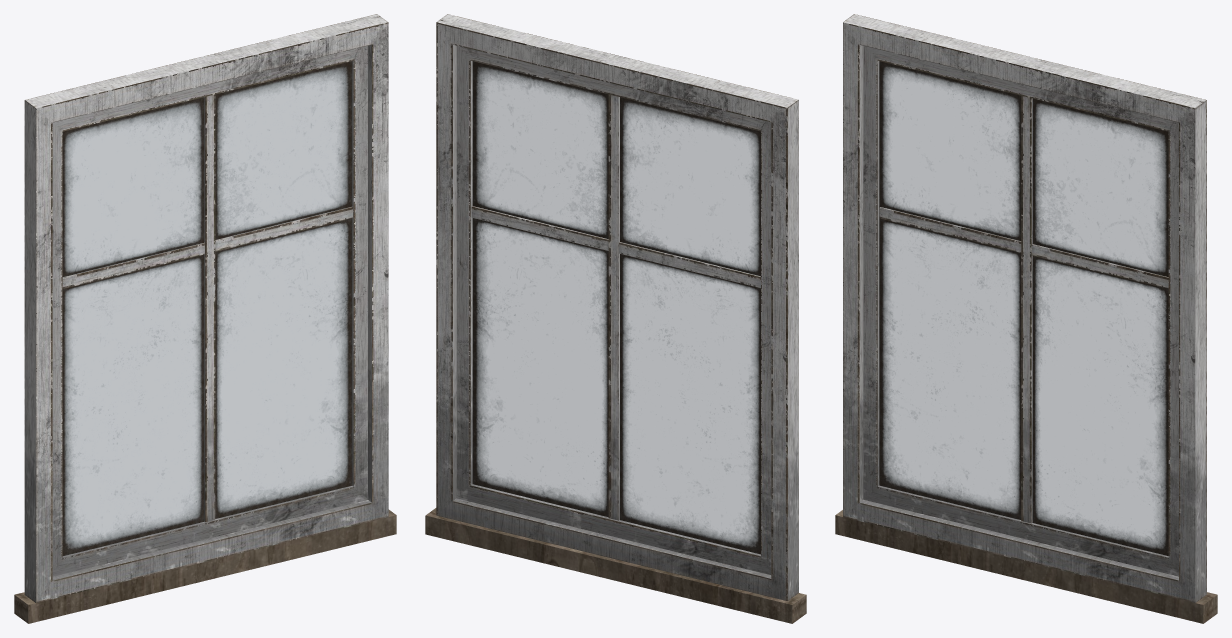
File: window.glb
The picture shows the model from 3 angles, left to right: view 1: azimuth 30°, elevation 25°; view 2: azimuth 150°, elevation 25°; view 3: azimuth 330°, elevation 25°; orthographic projection.
Parts seen in each view (by area): view 1: SalvagedWindow; view 2: SalvagedWindow; view 3: SalvagedWindow.
Boxes of the visible parts, left/top/right/bottom form: SalvagedWindow: left=14, top=14, right=396, bottom=623; SalvagedWindow: left=425, top=14, right=806, bottom=623; SalvagedWindow: left=835, top=14, right=1217, bottom=623.
Bounding box in the file's own units: 1.5 × 2 × 0.1.
Materials: 2 (2 with a texture image).
